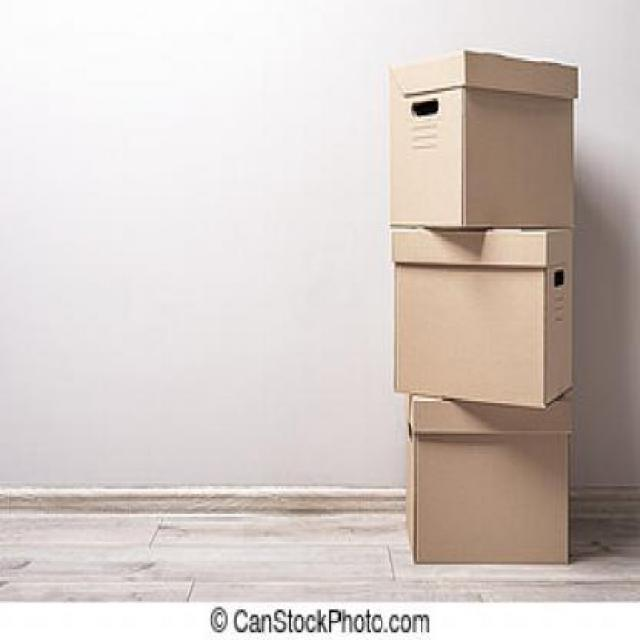box: (386, 42, 582, 228), (388, 226, 576, 409), (400, 388, 572, 568)
